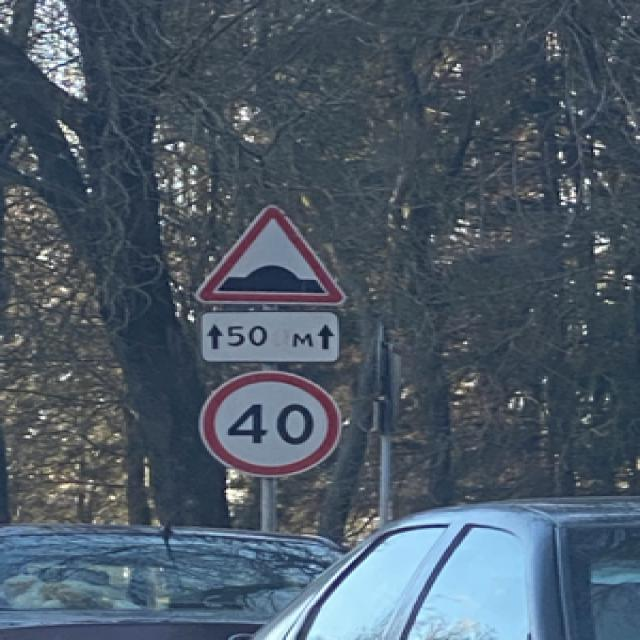speed limit 40: (200, 371, 341, 478)
